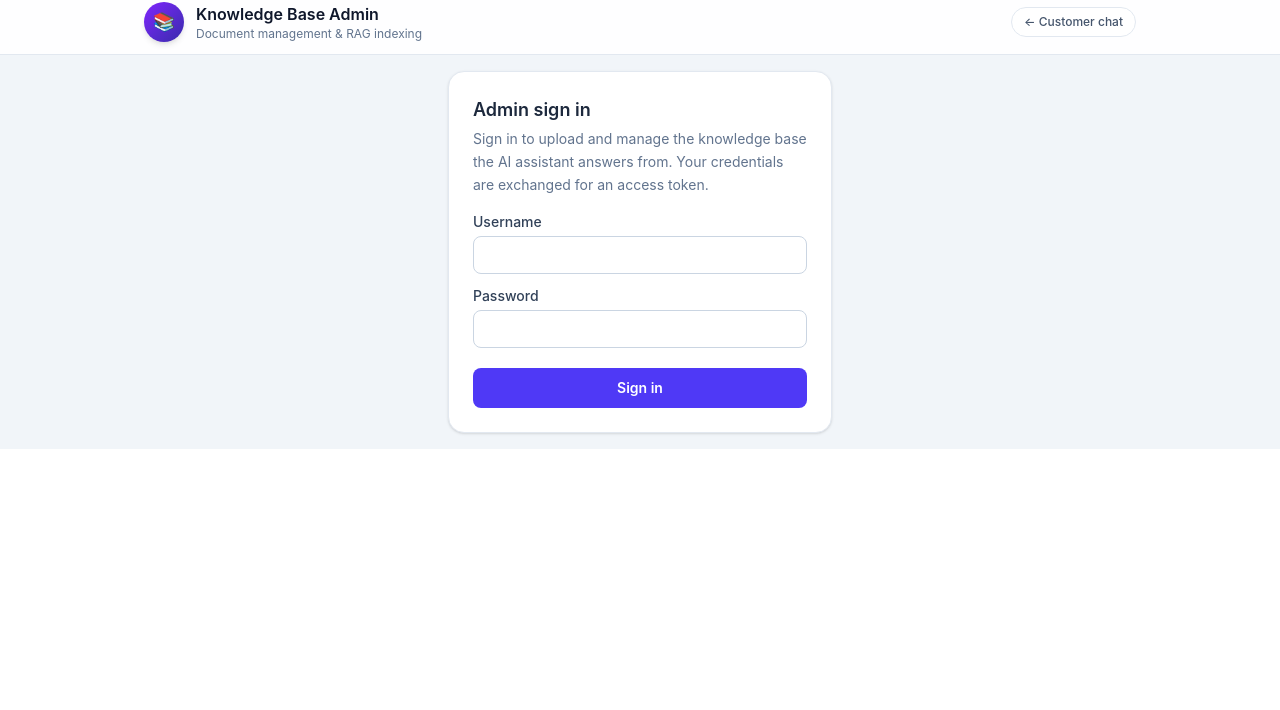
Test case: KnowledgeBaseAdmin › shows an error toast when deletion fails
The image size is (1280, 710).
In the field labelled "Username": (640, 255) [473,236,807,274], type "admin"
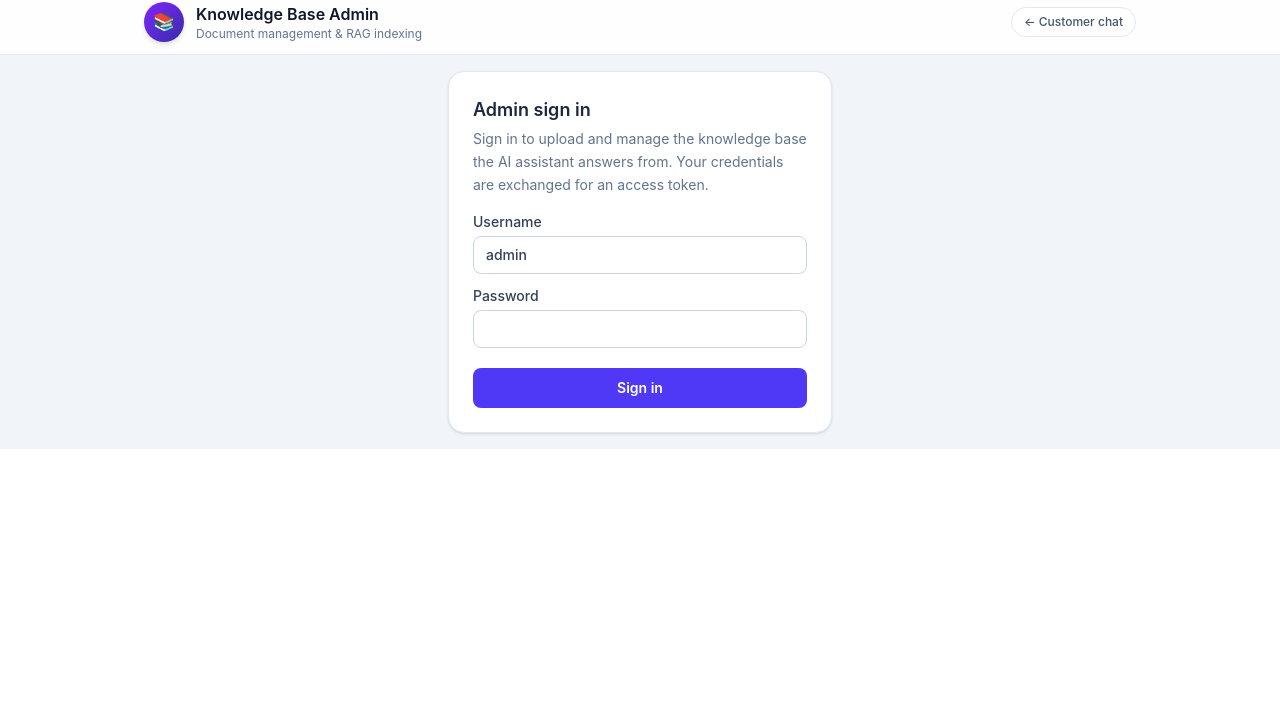
In the password field labelled "Password": (640, 329) [473,310,807,348], type "admin123"
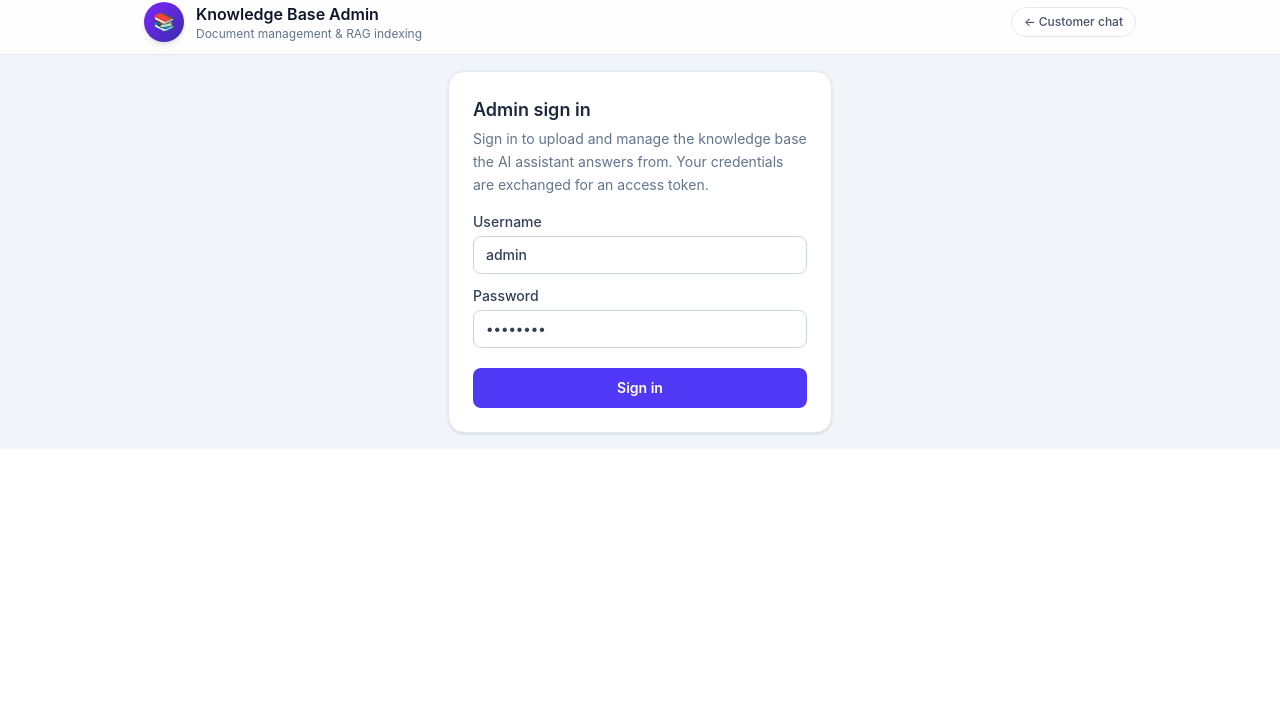
Submit the form, box [448,71,832,433]
(page scrolled)
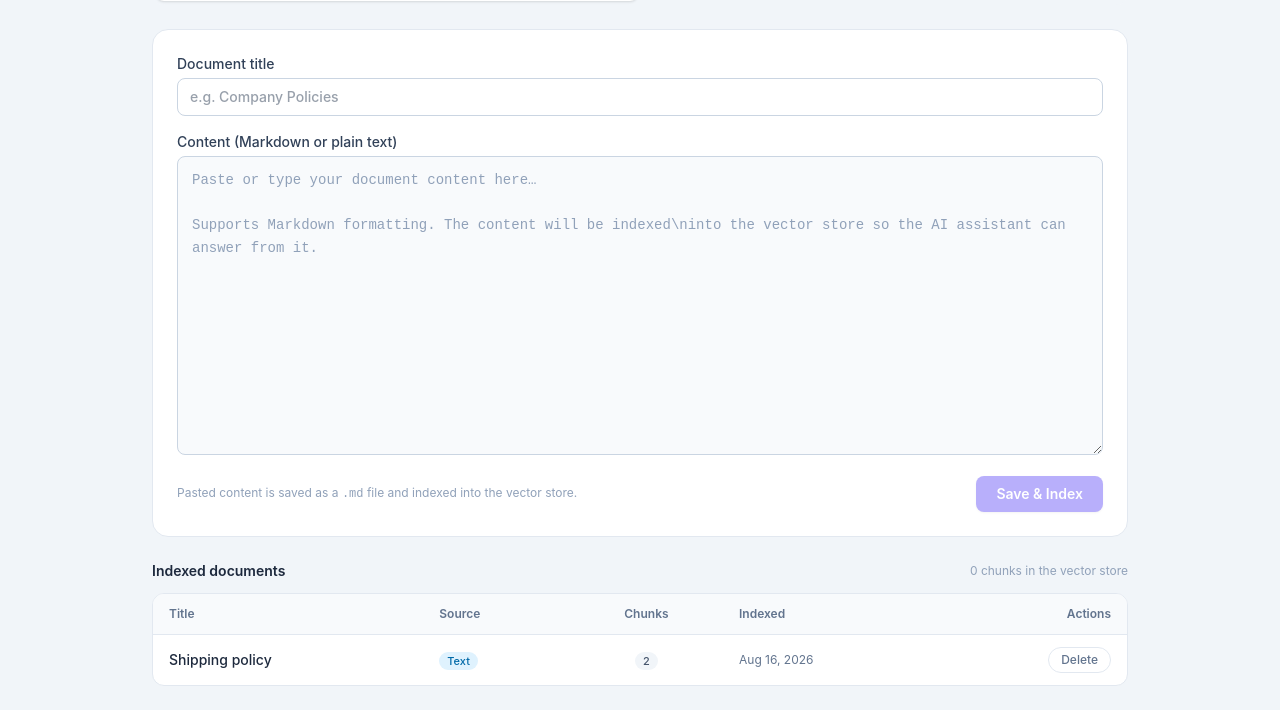
Click the button "Delete": (1080, 660) [1048,647,1111,673]
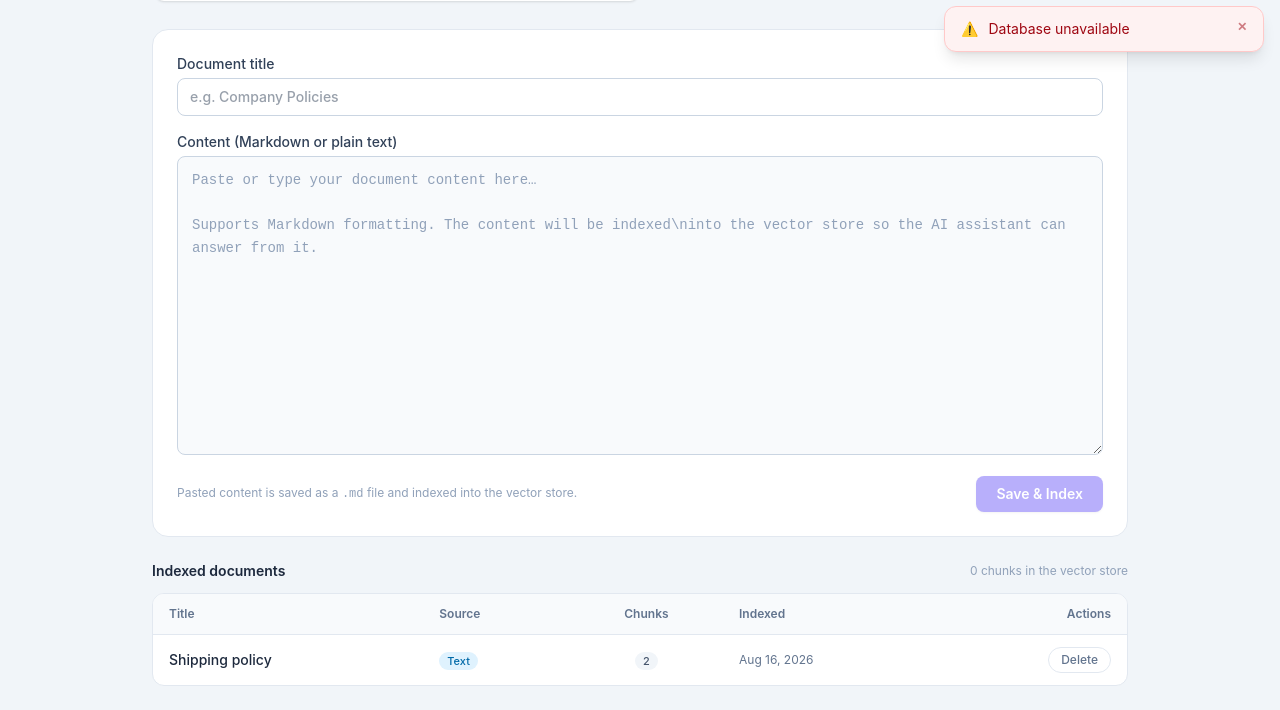
Expected: the text "Database unavailable" is shown, [988,20,1130,37]
